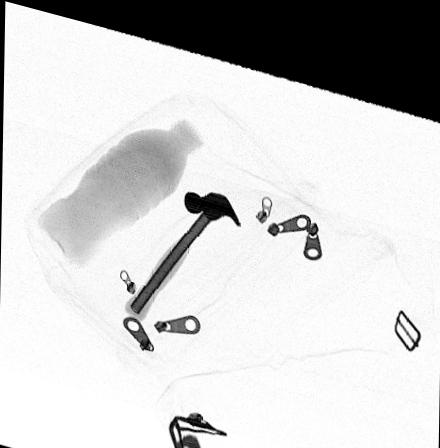Hammer: (122, 179, 240, 312)
